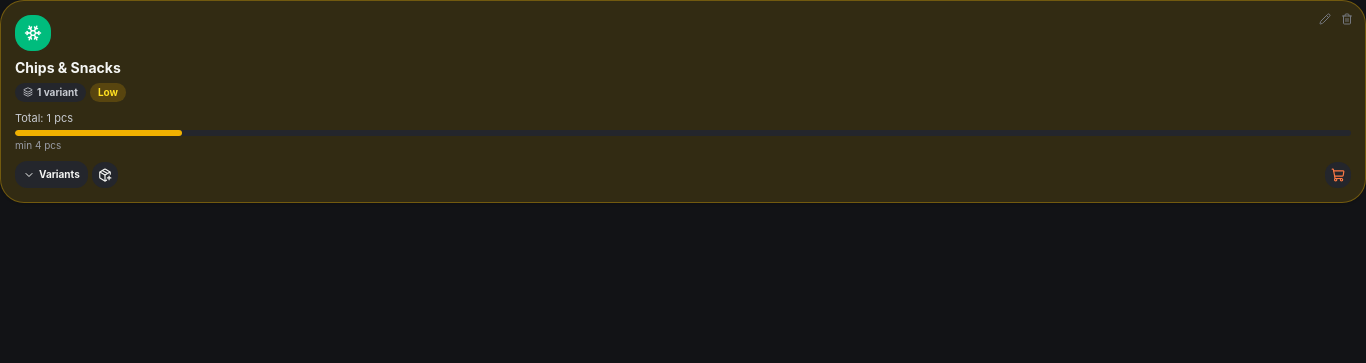
Test: HOME tiles › a 1× variant shows the grey label inside its group
Step 1. Click the button "Variants" → (51, 174), box [15,161,88,188]
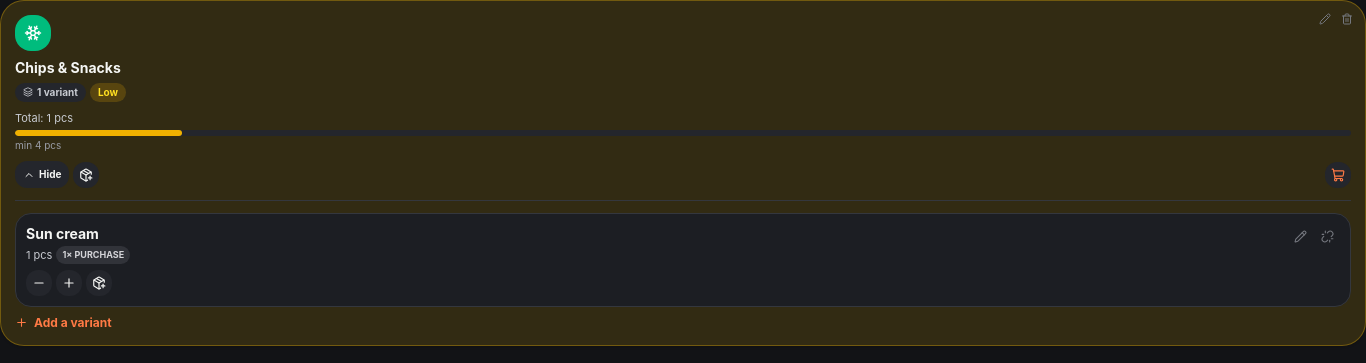
Now the text "1× purchase" is shown, box [56,246,130,264]
